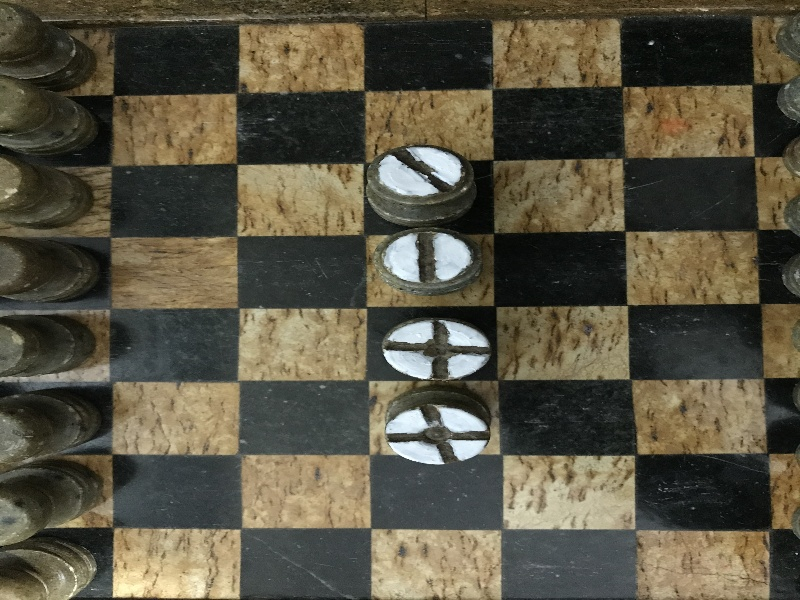WhiteBishop: (385, 386, 492, 464), (379, 314, 491, 380)
WhiteRook: (366, 146, 478, 225), (372, 228, 481, 294)
